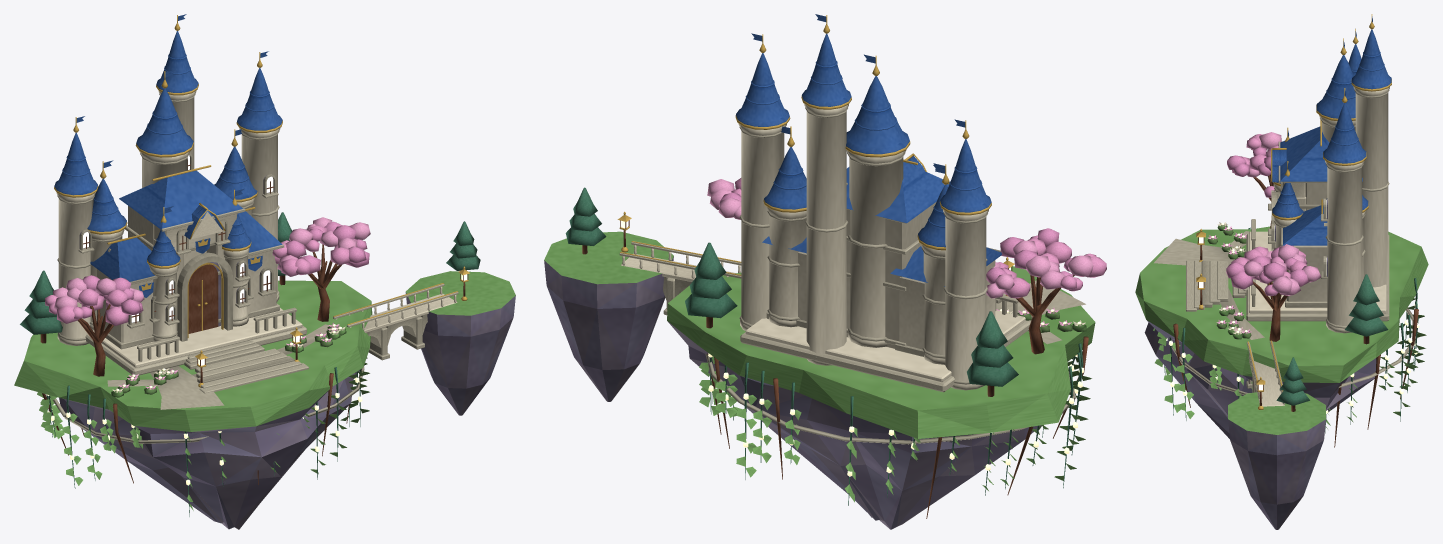
Rendered from royal-island-citadel-balanced.glb.
The picture shows the model from 3 angles, left to right: view 1: azimuth 30°, elevation 25°; view 2: azimuth 150°, elevation 25°; view 3: azimuth 270°, elevation 25°; orthographic projection. The views are drawn at different scales.
Parts seen in each view (by area): view 1: royal-island-citadel; view 2: royal-island-citadel; view 3: royal-island-citadel.
Boxes of the visible parts, left/top/right/bottom form: royal-island-citadel: left=14, top=14, right=515, bottom=529; royal-island-citadel: left=544, top=14, right=1106, bottom=529; royal-island-citadel: left=1135, top=14, right=1428, bottom=529.
Size of the model in its own units: 18.99 by 18.51 by 10.83.
10 materials, 10 textured.
